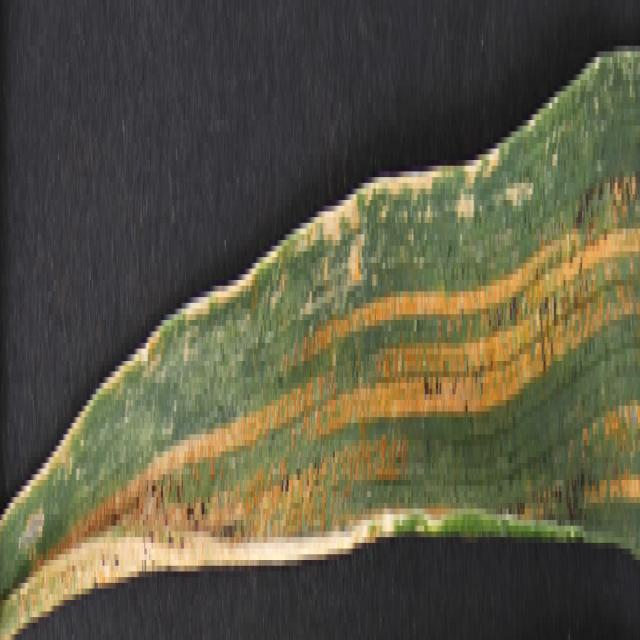leaf rust: (94, 154, 640, 560)
